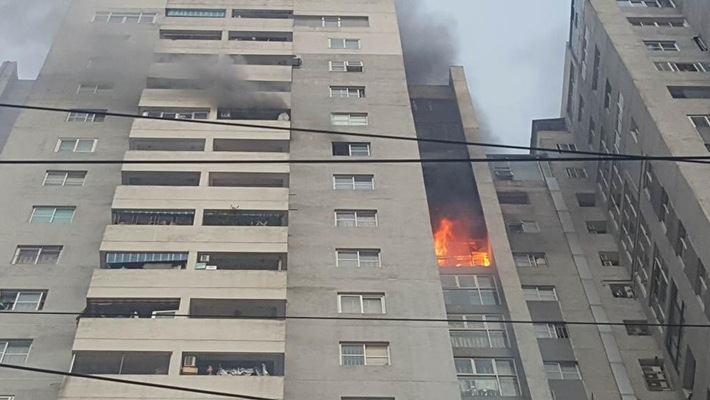fire: (432, 219, 497, 268)
smoke: (12, 9, 155, 111), (160, 45, 283, 116), (417, 98, 481, 210), (401, 13, 458, 85)
